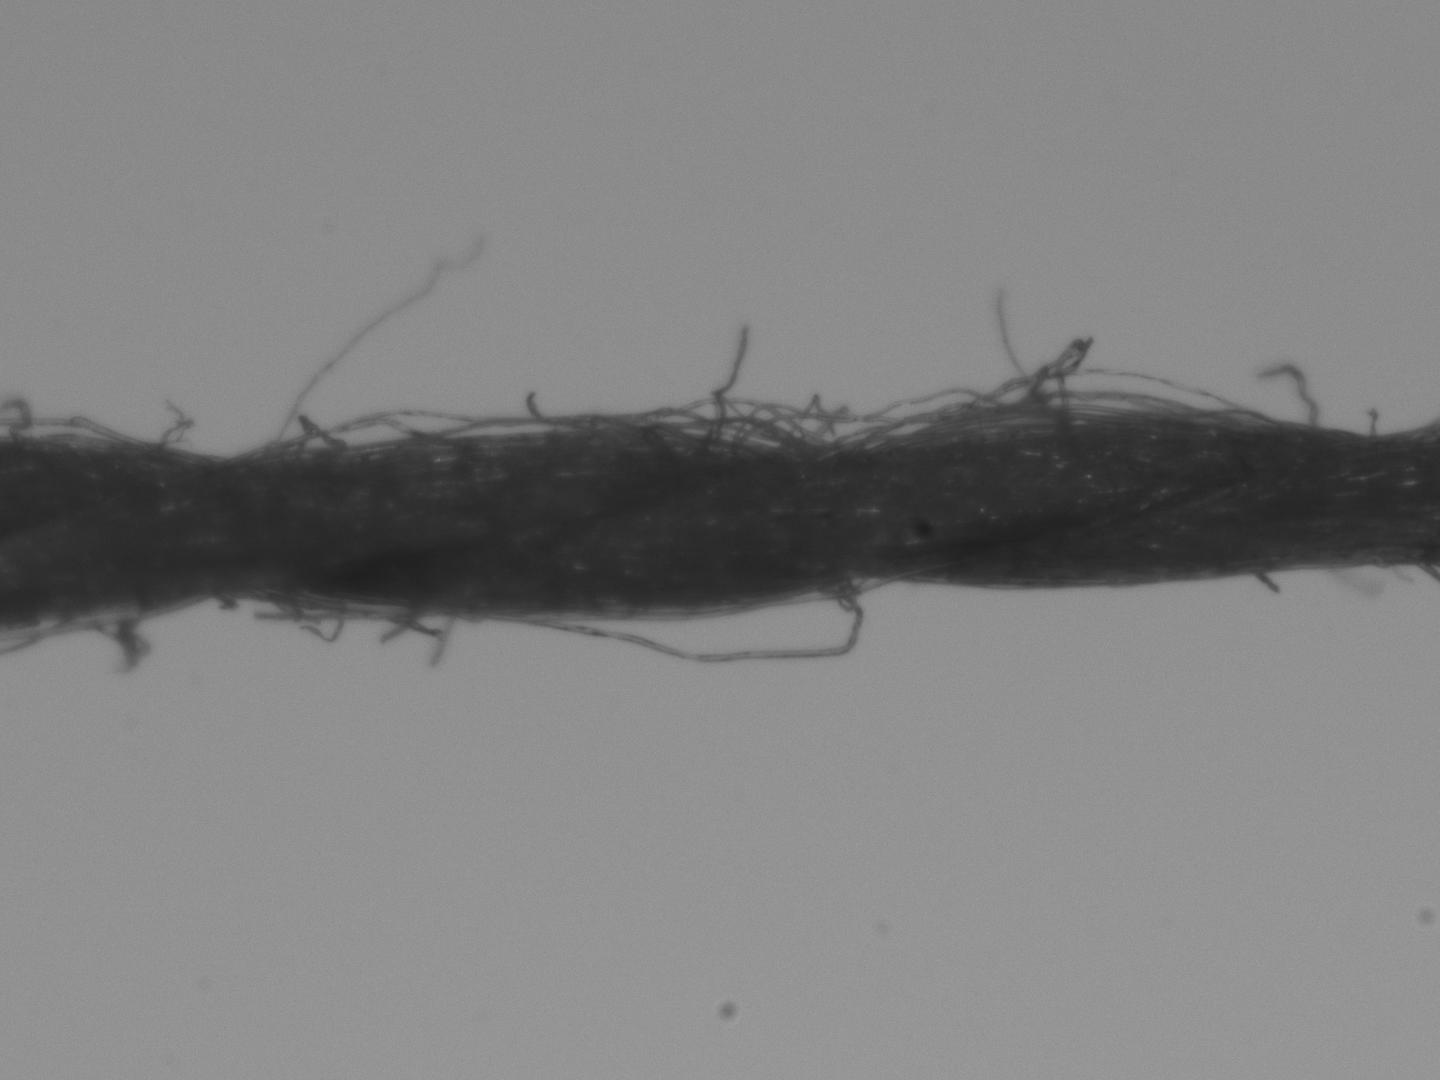loop_fiber: (500, 582, 862, 663), (955, 368, 1237, 424), (642, 410, 805, 454), (254, 415, 410, 458), (433, 414, 602, 442), (11, 413, 127, 450)
protruding_fiber: (992, 289, 1048, 428), (706, 322, 751, 442), (1261, 366, 1319, 432), (384, 605, 427, 651), (523, 389, 544, 439), (1247, 572, 1281, 602)
